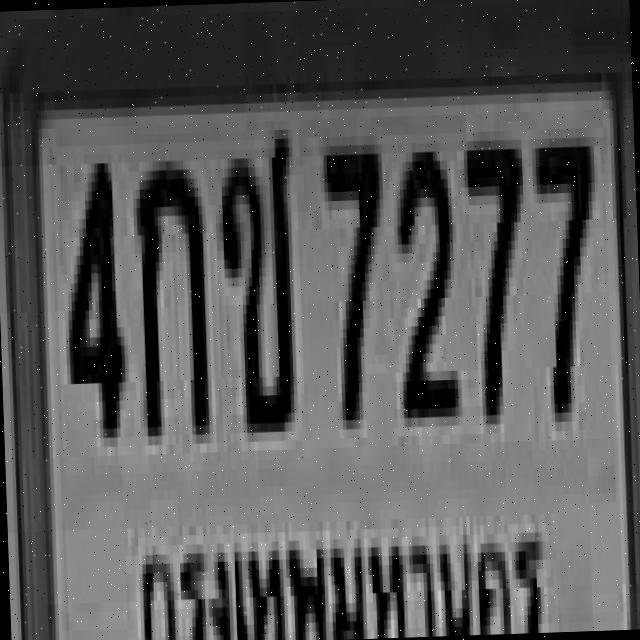10GorGai: (131, 150, 206, 428)
19ChorChang: (216, 120, 294, 423)
2: (391, 142, 455, 409)
4: (59, 153, 124, 430)
7: (531, 128, 599, 413), (318, 136, 386, 420), (462, 130, 528, 416)
Bangkok: (124, 515, 554, 640)
